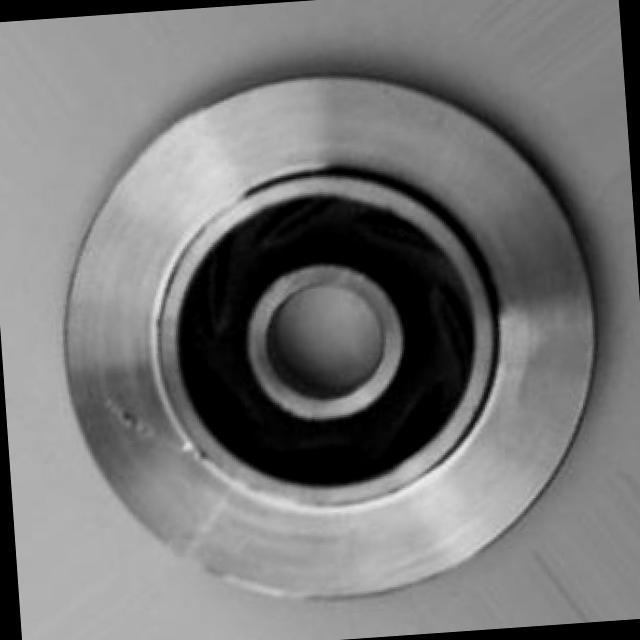Defect: (108, 391, 146, 442)
